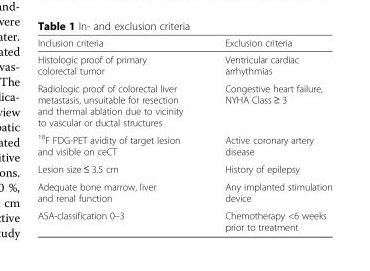table: (36, 36, 331, 232)
table column: (36, 36, 203, 232), (203, 36, 331, 232)
table column header: (36, 36, 331, 50)
table row: (36, 79, 331, 130), (36, 50, 331, 79), (36, 130, 331, 159), (36, 177, 331, 206), (36, 206, 331, 232), (36, 159, 331, 177), (36, 36, 331, 50)
